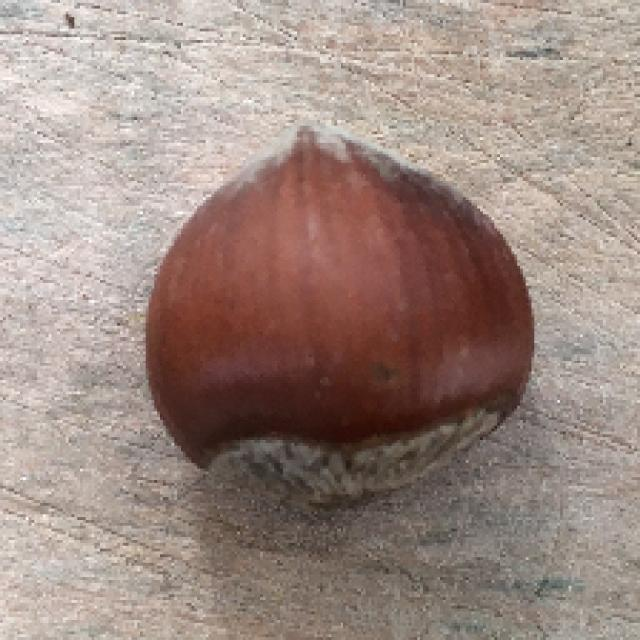DamagedHazelnut: (143, 129, 535, 522)
